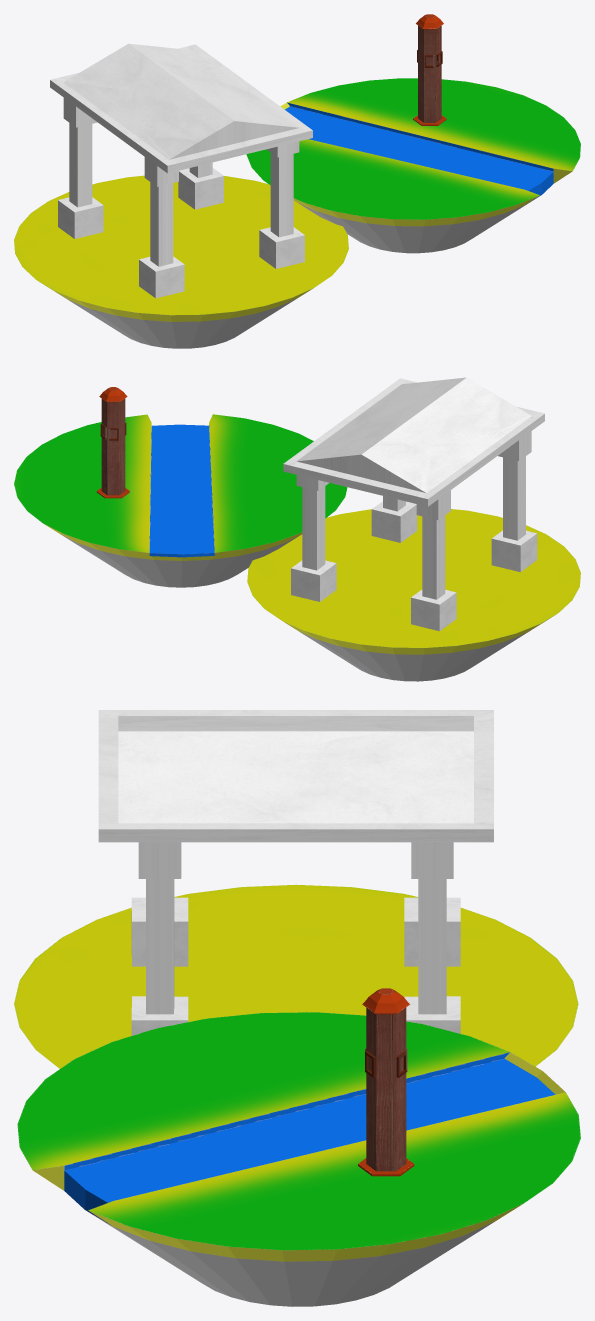
The model's file is Iledebateau.fbx.
3 views of the same model, one above another, from view 1: azimuth 30°, elevation 25°; view 2: azimuth 150°, elevation 25°; view 3: azimuth 270°, elevation 25° (orthographic). The views are drawn at different scales.
Parts seen in each view (by area): view 1: Circle.001, Circle, Cube.001, Cube, Circle.002; view 2: Circle.001, Circle, Cube.001, Cube, Circle.002; view 3: Circle.001, Circle, Cube.001, Cube, Circle.002.
Part boxes in pixels (box(x1,y1,x2,y2)): Circle.001: box(246, 78, 580, 253); Circle: box(14, 175, 348, 348); Cube.001: box(50, 43, 312, 173); Cube: box(58, 98, 304, 298); Circle.002: box(413, 14, 446, 125); Circle.001: box(14, 414, 347, 587); Circle: box(247, 509, 580, 681); Cube.001: box(283, 377, 544, 506); Cube: box(291, 431, 537, 631); Circle.002: box(96, 387, 129, 498); Circle.001: box(17, 1012, 580, 1306); Circle: box(14, 884, 578, 1068); Cube.001: box(98, 710, 493, 842); Cube: box(131, 842, 460, 1035); Circle.002: box(358, 988, 414, 1176).
Size of the model in its own units: 360 by 157 by 201.
6 materials, 6 textured.
